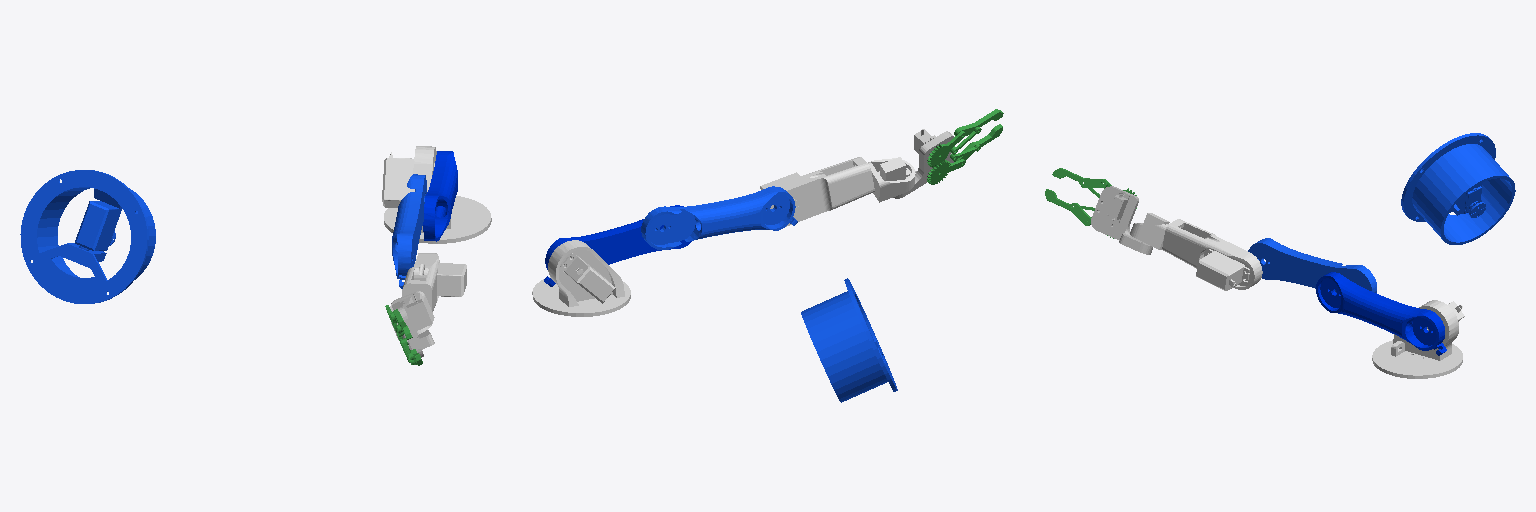
The robot description file, URDF, robot "Robotic Arm_V3.SLDASM":
<?xml version="1.0" encoding="utf-8"?>
<robot
  name="Robotic Arm_V3.SLDASM">
  <link
    name="base_link">
    <inertial>
      <origin
        xyz="0.037361 0.060703 0.10392"
        rpy="0 0 0" />
      <mass
        value="1.5" />
      <inertia
        ixx="0.00013384"
        ixy="3.6348E-06"
        ixz="-6.8295E-11"
        iyy="0.000214"
        iyz="-5.1203E-12"
        izz="0.00014723" />
    </inertial>
    <visual>
      <origin
        xyz="0 0 0"
        rpy="0 0 0" />
      <geometry>
        <mesh
          filename="package://Lab_3/meshes/base_link.STL" />
      </geometry>
      <material
        name="">
        <color
          rgba="0.12157 0.41961 1 1" />
      </material>
    </visual>
    <collision>
      <origin
        xyz="0 0 0"
        rpy="0 0 0" />
      <geometry>
        <mesh
          filename="package://Lab_3/meshes/base_link.STL" />
      </geometry>
    </collision>
  </link>
  <link
    name="Link_1">
    <inertial>
      <origin
        xyz="-0.013883 0.022695 -0.0031898"
        rpy="0 0 0" />
      <mass
        value="1" />
      <inertia
        ixx="6.4149E-05"
        ixy="4.9803E-06"
        ixz="-4.4439E-07"
        iyy="6.2385E-05"
        iyz="8.107E-06"
        izz="5.2727E-05" />
    </inertial>
    <visual>
      <origin
        xyz="0 0 0"
        rpy="0 0 0" />
      <geometry>
        <mesh
          filename="package://Lab_3/meshes/Link_1.STL" />
      </geometry>
      <material
        name="">
        <color
          rgba="0.89412 0.89412 0.89412 1" />
      </material>
    </visual>
    <collision>
      <origin
        xyz="0 0 0"
        rpy="0 0 0" />
      <geometry>
        <mesh
          filename="package://Lab_3/meshes/Link_1.STL" />
      </geometry>
    </collision>
  </link>
  <joint
    name="Joint_1"
    type="revolute">
    <origin
      xyz="0.039819 -0.10392 0.093108"
      rpy="1.5708 0 -0.063643" />
    <parent
      link="base_link" />
    <child
      link="Link_1" />
    <axis
      xyz="0 1 0" />
    <limit
      lower="-6.28"
      upper="6.28"
      effort="200"
      velocity="3" />
  </joint>
  <link
    name="Link_2">
    <inertial>
      <origin
        xyz="0.0031363 -0.044636 0.089395"
        rpy="0 0 0" />
      <mass
        value="1.2" />
      <inertia
        ixx="0.00011141"
        ixy="-6.6538E-06"
        ixz="-8.2415E-07"
        iyy="1.1166E-05"
        iyz="-1.2452E-05"
        izz="0.00010542" />
    </inertial>
    <visual>
      <origin
        xyz="0 0 0"
        rpy="0 0 0" />
      <geometry>
        <mesh
          filename="package://Lab_3/meshes/Link_2.STL" />
      </geometry>
      <material
        name="">
        <color
          rgba="0 0.2549 0.92157 1" />
      </material>
    </visual>
    <collision>
      <origin
        xyz="0 0 0"
        rpy="0 0 0" />
      <geometry>
        <mesh
          filename="package://Lab_3/meshes/Link_2.STL" />
      </geometry>
    </collision>
  </link>
  <joint
    name="Joint_2"
    type="revolute">
    <origin
      xyz="0 -0.0566 0"
      rpy="-1.5708 0.063643 0" />
    <parent
      link="Link_1" />
    <child
      link="Link_2" />
    <axis
      xyz="0.99798 -0.0636 0" />
    <limit
      lower="-6.28"
      upper="6.28"
      effort="200"
      velocity="3" />
  </joint>
  <link
    name="Link_3">
    <inertial>
      <origin
        xyz="-0.00014384 -0.065387 0.011676"
        rpy="0 0 0" />
      <mass
        value="1" />
      <inertia
        ixx="9.7011E-05"
        ixy="-1.6122E-09"
        ixz="3.3948E-10"
        iyy="8.1729E-06"
        iyz="1.4865E-06"
        izz="0.00010145" />
    </inertial>
    <visual>
      <origin
        xyz="0 0 0"
        rpy="0 0 0" />
      <geometry>
        <mesh
          filename="package://Lab_3/meshes/Link_3.STL" />
      </geometry>
      <material
        name="">
        <color
          rgba="0.12157 0.41961 1 1" />
      </material>
    </visual>
    <collision>
      <origin
        xyz="0 0 0"
        rpy="0 0 0" />
      <geometry>
        <mesh
          filename="package://Lab_3/meshes/Link_3.STL" />
      </geometry>
    </collision>
  </link>
  <joint
    name="Joint_3"
    type="revolute">
    <origin
      xyz="-0.0040649 -0.10522 0.081632"
      rpy="-1.5708 -0.1562 1.5072" />
    <parent
      link="Link_2" />
    <child
      link="Link_3" />
    <axis
      xyz="0 0 1" />
    <limit
      lower="-6.28"
      upper="6.28"
      effort="200"
      velocity="3" />
  </joint>
  <link
    name="Link_4">
    <inertial>
      <origin
        xyz="0.00016598 0.027398 0.01279"
        rpy="0 0 0" />
      <mass
        value="0.8" />
      <inertia
        ixx="6.4174E-05"
        ixy="-6.9593E-08"
        ixz="-5.1891E-11"
        iyy="1.5131E-05"
        iyz="-5.667E-07"
        izz="6.4165E-05" />
    </inertial>
    <visual>
      <origin
        xyz="0 0 0"
        rpy="0 0 0" />
      <geometry>
        <mesh
          filename="package://Lab_3/meshes/Link_4.STL" />
      </geometry>
      <material
        name="">
        <color
          rgba="0.89412 0.89412 0.89412 1" />
      </material>
    </visual>
    <collision>
      <origin
        xyz="0 0 0"
        rpy="0 0 0" />
      <geometry>
        <mesh
          filename="package://Lab_3/meshes/Link_4.STL" />
      </geometry>
    </collision>
  </link>
  <joint
    name="Joint_4"
    type="revolute">
    <origin
      xyz="0 -0.12 0"
      rpy="-3.1416 0 -0.11882" />
    <parent
      link="Link_3" />
    <child
      link="Link_4" />
    <axis
      xyz="0 0 1" />
    <limit
      lower="-6.28"
      upper="6.28"
      effort="300"
      velocity="3" />
  </joint>
  <link
    name="Link_5">
    <inertial>
      <origin
        xyz="-0.0065334 -0.16154 0.30469"
        rpy="0 0 0" />
      <mass
        value="1.5" />
      <inertia
        ixx="4.2563E-06"
        ixy="3.9266E-08"
        ixz="8.6966E-08"
        iyy="4.4648E-06"
        iyz="1.0503E-06"
        izz="3.3871E-06" />
    </inertial>
    <visual>
      <origin
        xyz="0 0 0"
        rpy="0 0 0" />
      <geometry>
        <mesh
          filename="package://Lab_3/meshes/Link_5.STL" />
      </geometry>
      <material
        name="">
        <color
          rgba="0.89412 0.89412 0.89412 1" />
      </material>
    </visual>
    <collision>
      <origin
        xyz="0 0 0"
        rpy="0 0 0" />
      <geometry>
        <mesh
          filename="package://Lab_3/meshes/Link_5.STL" />
      </geometry>
    </collision>
  </link>
  <joint
    name="Joint_5"
    type="revolute">
    <origin
      xyz="0.064915 -0.2263 -0.0026352"
      rpy="-1.5708 -1.5072 -0.27501" />
    <parent
      link="Link_4" />
    <child
      link="Link_5" />
    <axis
      xyz="0.017271 0.27101 -0.96242" />
    <limit
      lower="-6.28"
      upper="6.28"
      effort="200"
      velocity="3" />
  </joint>
  <link
    name="Link_6">
    <inertial>
      <origin
        xyz="0.021358 0.0029899 -0.033872"
        rpy="0 0 0" />
      <mass
        value="0.8" />
      <inertia
        ixx="9.7851E-06"
        ixy="6.5746E-07"
        ixz="-3.211E-06"
        iyy="1.3575E-05"
        iyz="1.2617E-06"
        izz="5.7501E-06" />
    </inertial>
    <visual>
      <origin
        xyz="0 0 0"
        rpy="0 0 0" />
      <geometry>
        <mesh
          filename="package://Lab_3/meshes/Link_6.STL" />
      </geometry>
      <material
        name="">
        <color
          rgba="0.79608 0.79608 0.79608 1" />
      </material>
    </visual>
    <collision>
      <origin
        xyz="0 0 0"
        rpy="0 0 0" />
      <geometry>
        <mesh
          filename="package://Lab_3/meshes/Link_6.STL" />
      </geometry>
    </collision>
  </link>
  <joint
    name="Joint_6"
    type="revolute">
    <origin
      xyz="-0.0047723 -0.14576 0.31828"
      rpy="-2.7364 0.27481 -1.6739" />
    <parent
      link="Link_5" />
    <child
      link="Link_6" />
    <axis
      xyz="1 0 0" />
    <limit
      lower="-6.28"
      upper="6.28"
      effort="200"
      velocity="3" />
  </joint>
  <link
    name="Link_7">
    <inertial>
      <origin
        xyz="0.061193 0.036846 -0.014048"
        rpy="0 0 0" />
      <mass
        value="0.15" />
      <inertia
        ixx="2.4513E-07"
        ixy="-2.9179E-07"
        ixz="2.2641E-09"
        iyy="9.2988E-07"
        iyz="1.2796E-09"
        izz="1.1605E-06" />
    </inertial>
    <visual>
      <origin
        xyz="0 0 0"
        rpy="0 0 0" />
      <geometry>
        <mesh
          filename="package://Lab_3/meshes/Link_7.STL" />
      </geometry>
      <material
        name="">
        <color
          rgba="0.28627 0.66275 0.32941 1" />
      </material>
    </visual>
    <collision>
      <origin
        xyz="0 0 0"
        rpy="0 0 0" />
      <geometry>
        <mesh
          filename="package://Lab_3/meshes/Link_7.STL" />
      </geometry>
    </collision>
  </link>
  <joint
    name="Joint_7"
    type="revolute">
    <origin
      xyz="0.021961 0 0"
      rpy="-1.5708 1.1735 3.1416" />
    <parent
      link="Link_6" />
    <child
      link="Link_7" />
    <axis
      xyz="0.38691 -0.92212 0" />
    <limit
      lower="-6.28"
      upper="6.28"
      effort="200"
      velocity="3" />
  </joint>
  <link
    name="Link_8">
    <inertial>
      <origin
        xyz="0.068316 0.018856 0.01403"
        rpy="0 0 0" />
      <mass
        value="0.15" />
      <inertia
        ixx="2.4804E-07"
        ixy="-2.9601E-07"
        ixz="-2.1016E-09"
        iyy="9.1861E-07"
        iyz="-1.2385E-09"
        izz="1.1525E-06" />
    </inertial>
    <visual>
      <origin
        xyz="0 0 0"
        rpy="0 0 0" />
      <geometry>
        <mesh
          filename="package://Lab_3/meshes/Link_8.STL" />
      </geometry>
      <material
        name="">
        <color
          rgba="0.28627 0.66275 0.32941 1" />
      </material>
    </visual>
    <collision>
      <origin
        xyz="0 0 0"
        rpy="0 0 0" />
      <geometry>
        <mesh
          filename="package://Lab_3/meshes/Link_8.STL" />
      </geometry>
    </collision>
  </link>
  <joint
    name="Joint_8"
    type="revolute">
    <origin
      xyz="-0.0059456 0 0"
      rpy="-1.5708 1.1901 0" />
    <parent
      link="Link_6" />
    <child
      link="Link_8" />
    <axis
      xyz="0.37161 -0.92839 0" />
    <limit
      lower="-6.28"
      upper="6.28"
      effort="200"
      velocity="3" />
  </joint>
</robot>

--- Facts derived from the render (not from the file) ---
The picture shows the robot from 3 angles, left to right: view 1: azimuth 30°, elevation 25°; view 2: azimuth 150°, elevation 25°; view 3: azimuth 270°, elevation 25°; orthographic projection.
Robot: Robotic Arm_V3.SLDASM — 9 links, 8 joints (8 revolute); root link base_link; default pose: every joint at zero.
Visible links, largest first — view 1: base_link, Link_1, Link_3, Link_4, Link_2, Link_6; view 2: base_link, Link_3, Link_1, Link_4, Link_2, Link_5, Link_6, Link_8, Link_7; view 3: base_link, Link_2, Link_4, Link_1, Link_3, Link_6, Link_5, Link_8.
Boxes of the visible links, box(x1,y1,x2,y2) form: base_link: box(20, 170, 155, 303); Link_1: box(382, 146, 491, 243); Link_3: box(392, 174, 426, 288); Link_4: box(402, 253, 466, 311); Link_2: box(423, 151, 457, 241); Link_6: box(392, 294, 434, 357); base_link: box(801, 278, 897, 402); Link_3: box(641, 186, 797, 249); Link_1: box(532, 240, 630, 316); Link_4: box(760, 157, 874, 226); Link_2: box(544, 205, 691, 286); Link_5: box(868, 157, 915, 202); Link_6: box(893, 129, 953, 198); Link_8: box(927, 109, 1003, 167); Link_7: box(927, 124, 1002, 184); base_link: box(1401, 133, 1515, 244); Link_2: box(1316, 272, 1446, 355); Link_4: box(1162, 219, 1262, 290); Link_1: box(1372, 300, 1464, 378); Link_3: box(1248, 238, 1376, 292); Link_6: box(1091, 186, 1152, 254); Link_5: box(1130, 213, 1169, 249); Link_8: box(1052, 168, 1136, 208).
Bounding box of the posed robot: 0.4393 × 0.5011 × 0.1226 m (x, y, z).
Meshes: 9 distinct files referenced, 9 mesh visuals loaded (9 binary STL).
